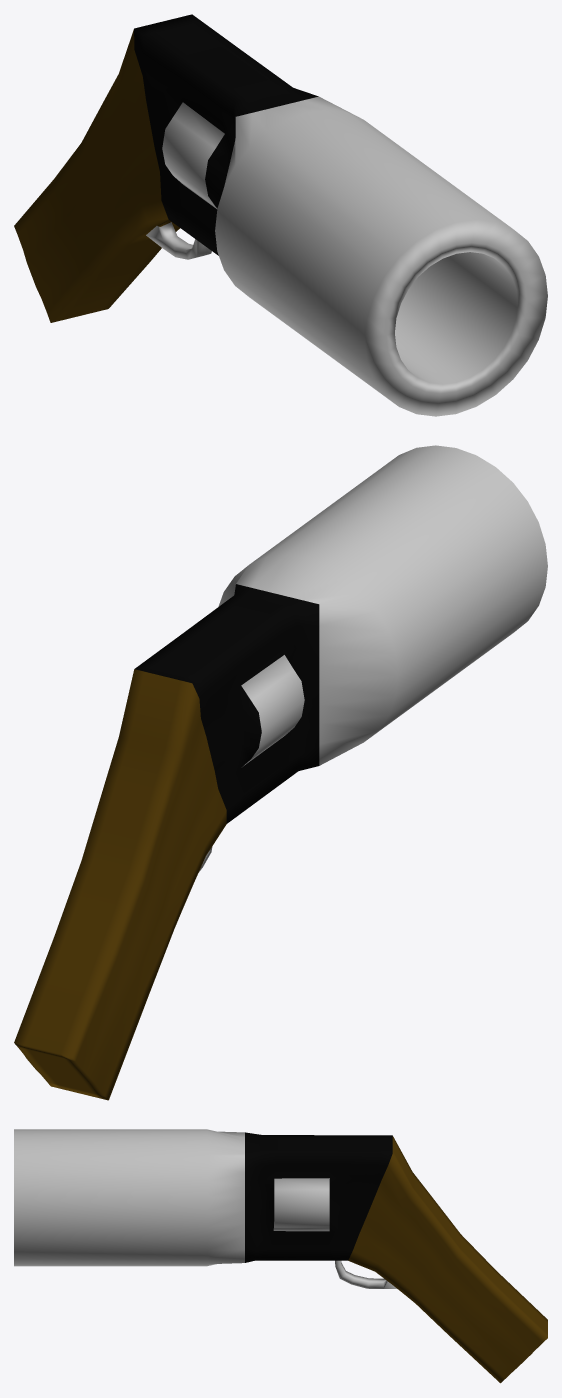
File: Gun.fbx
The picture shows the model from 3 angles, top to bottom: view 1: azimuth 30°, elevation 25°; view 2: azimuth 150°, elevation 25°; view 3: azimuth 270°, elevation 25°; orthographic projection. The views are drawn at different scales.
Visible parts, largest first — view 1: Gun; view 2: Gun; view 3: Gun.
Part boxes in pixels (x1,y1,x2,y2): Gun: (14,14,547,416); Gun: (14,445,547,1100); Gun: (14,1129,547,1383).
Size of the model in its own units: 0.1272 by 0.245 by 0.4967.
